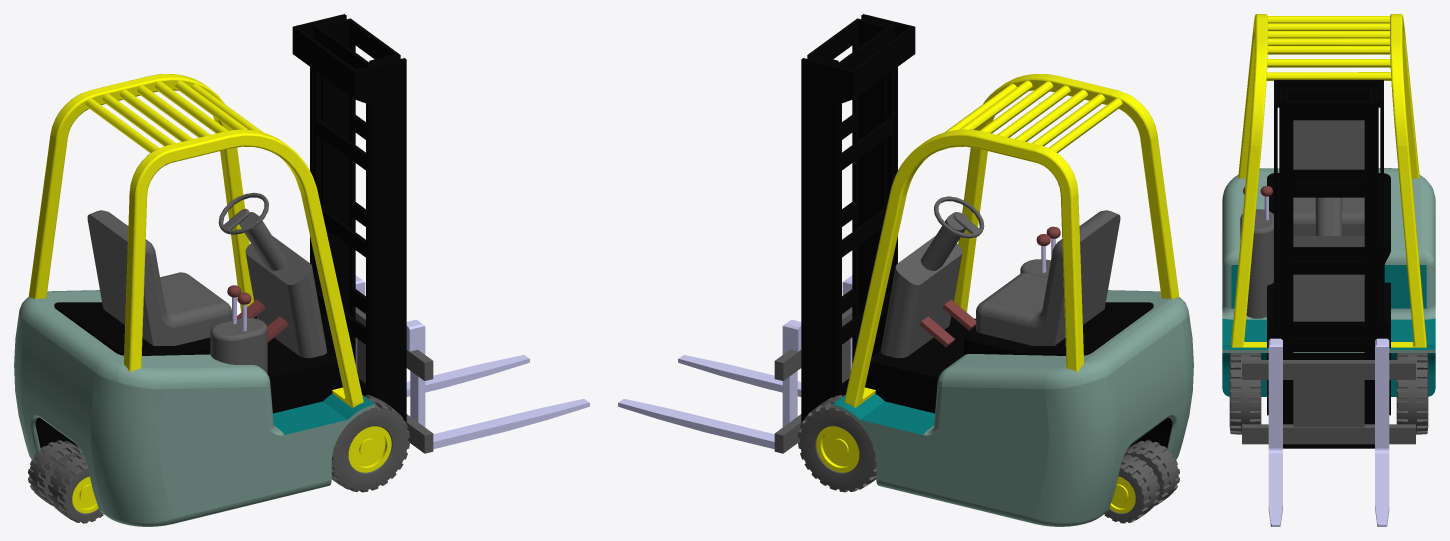
Rendered from Gabelstapler_1-5t_3-Rad.dae.
3 renders of one model, left to right at view 1: azimuth 30°, elevation 25°; view 2: azimuth 150°, elevation 25°; view 3: azimuth 270°, elevation 25°, orthographic. The views are drawn at different scales.
Parts seen in each view (by area): view 1: Grundkorper, Schutzbuegel, Hubmast_1, Hubmast_3, Hubmast_2, Gabelzinken (×2), Vorderrad, Hinterrad (×2), Gabeltrager; view 2: Grundkorper, Schutzbuegel, Hubmast_1, Hubmast_3, Hubmast_2, Gabelzinken (×2), Vorderrad, Hinterrad (×2), Gabeltrager; view 3: Grundkorper, Schutzbuegel, Hubmast_3, Gabeltrager, Hubmast_2, Gabelzinken (×2), Vorderrad (×2), Hubmast_1.
Boxes of the visible parts, bbox=[...] form: Grundkorper: bbox=[14, 192, 374, 526]; Schutzbuegel: bbox=[28, 74, 363, 407]; Hubmast_1: bbox=[292, 14, 406, 423]; Hubmast_3: bbox=[321, 18, 400, 396]; Hubmast_2: bbox=[313, 17, 400, 395]; Gabelzinken (×2): bbox=[355, 275, 589, 449]; Vorderrad: bbox=[331, 395, 409, 492]; Hinterrad (×2): bbox=[28, 440, 103, 523]; Gabeltrager: bbox=[355, 307, 433, 453]; Grundkorper: bbox=[833, 196, 1193, 526]; Schutzbuegel: bbox=[844, 74, 1179, 407]; Hubmast_1: bbox=[801, 14, 915, 423]; Hubmast_3: bbox=[807, 18, 886, 396]; Hubmast_2: bbox=[807, 17, 894, 395]; Gabelzinken (×2): bbox=[618, 275, 852, 449]; Vorderrad: bbox=[798, 395, 876, 492]; Hinterrad (×2): bbox=[1104, 440, 1179, 523]; Gabeltrager: bbox=[774, 307, 852, 453]; Grundkorper: bbox=[1222, 120, 1435, 415]; Schutzbuegel: bbox=[1231, 14, 1426, 347]; Hubmast_3: bbox=[1284, 90, 1373, 424]; Gabeltrager: bbox=[1242, 360, 1415, 444]; Hubmast_2: bbox=[1279, 87, 1378, 424]; Gabelzinken (×2): bbox=[1268, 338, 1389, 526]; Vorderrad (×2): bbox=[1229, 353, 1428, 434]; Hubmast_1: bbox=[1274, 80, 1383, 448].
Bounding box in the file's own units: 2958 × 1200 × 2204.
